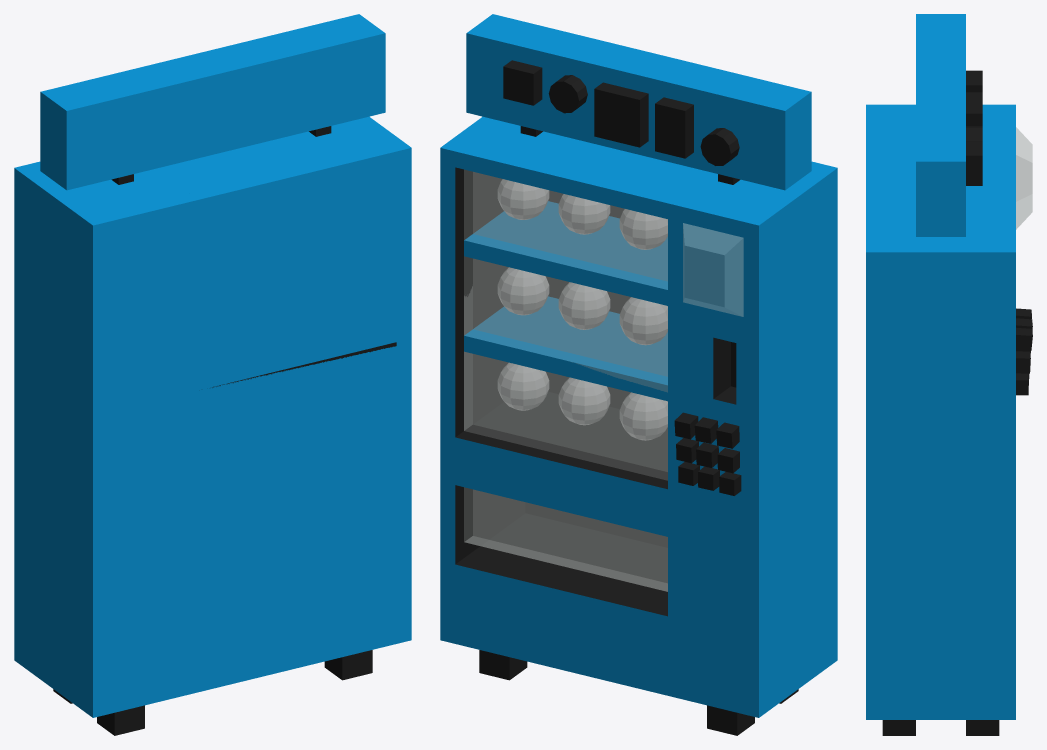
File: model-triangulated.obj
3 renders of one model, left to right at view 1: azimuth 30°, elevation 25°; view 2: azimuth 150°, elevation 25°; view 3: azimuth 270°, elevation 25°, orthographic. The views are drawn at different scales.
Visible parts, largest first — view 1: group1858506000, group1887676826, group577397298, group1222169380, group1871551305, group1982615210; view 2: group1887676826, group1016280600, group1653716828, group577397298, group19616759, group522768280, group1222169380, group892156184, group1394142260, group351965626, group1858506000, group134552523 (+16 smaller); view 3: group19616759, group577397298, group1858506000, group1222169380, group1887676826, group134552523, group962782918, group850966255, group1471477505, group1871551305, group1266518904, group185908305 (+2 smaller).
Part boxes in pixels (x1,y1,x2,y2): group1858506000: [84, 141, 411, 717]; group1887676826: [14, 161, 174, 711]; group577397298: [40, 14, 385, 190]; group1222169380: [142, 120, 387, 196]; group1871551305: [324, 650, 372, 680]; group1982615210: [97, 705, 144, 735]; group1887676826: [668, 170, 828, 717]; group1016280600: [464, 170, 667, 480]; group1653716828: [455, 513, 667, 695]; group577397298: [466, 14, 811, 190]; group19616759: [440, 116, 524, 643]; group522768280: [455, 392, 667, 536]; group1222169380: [455, 120, 709, 218]; group892156184: [464, 487, 667, 591]; group1394142260: [464, 201, 667, 305]; group351965626: [464, 296, 667, 401]; group1858506000: [525, 161, 837, 666]; group134552523: [683, 223, 743, 316]; group19616759: [882, 245, 1015, 719]; group577397298: [916, 14, 965, 236]; group1858506000: [866, 104, 882, 719]; group1222169380: [882, 146, 1015, 245]; group1887676826: [882, 104, 1015, 146]; group134552523: [1016, 127, 1032, 229]; group962782918: [966, 141, 982, 185]; group850966255: [966, 92, 982, 125]; group1471477505: [966, 720, 999, 735]; group1871551305: [882, 720, 915, 735]; group1266518904: [1016, 327, 1032, 350]; group185908305: [966, 71, 982, 92].
Size of the model in its own units: 0.21 by 0.39 by 0.1003.
